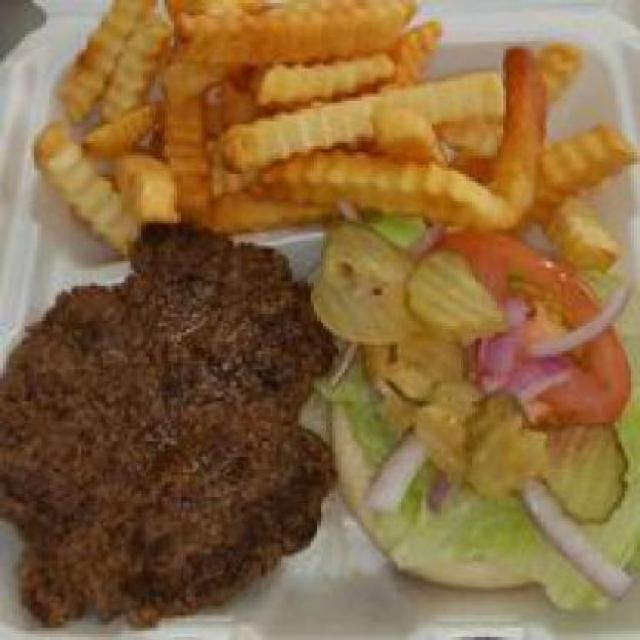hamburger: (6, 242, 628, 609)
